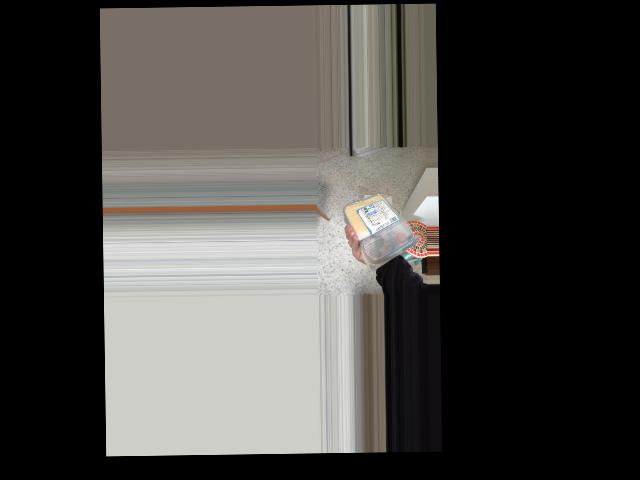cheese: (351, 186, 418, 261)
